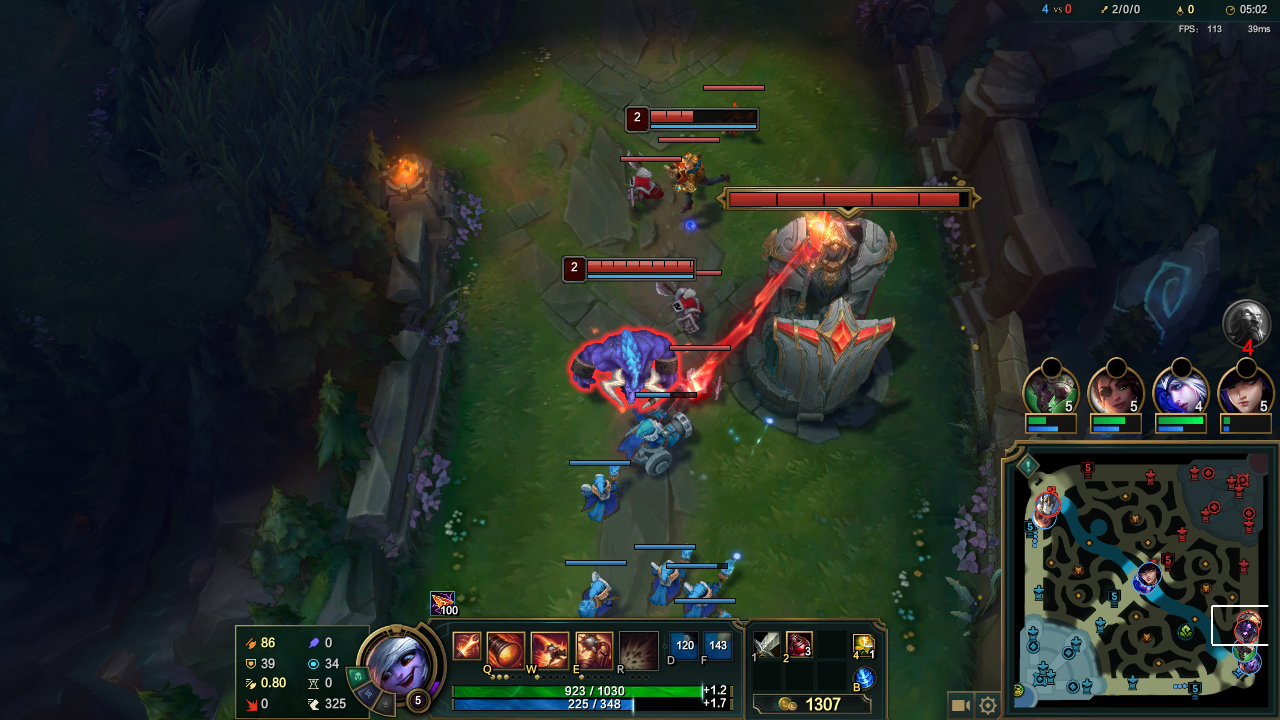DFFYT: (724, 178, 890, 418)
DFXB: (621, 163, 670, 221), (657, 282, 712, 333)
DFYX: (586, 261, 696, 281), (642, 108, 731, 130)
WFXB: (615, 407, 706, 475), (677, 559, 734, 619), (576, 470, 629, 526), (643, 549, 690, 609), (568, 571, 623, 616)
Yita: (1188, 676, 1202, 697)
